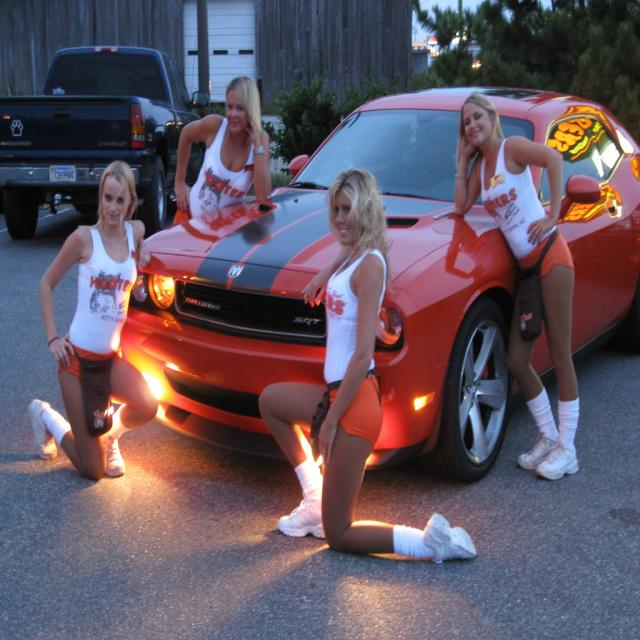car: (99, 83, 634, 480)
